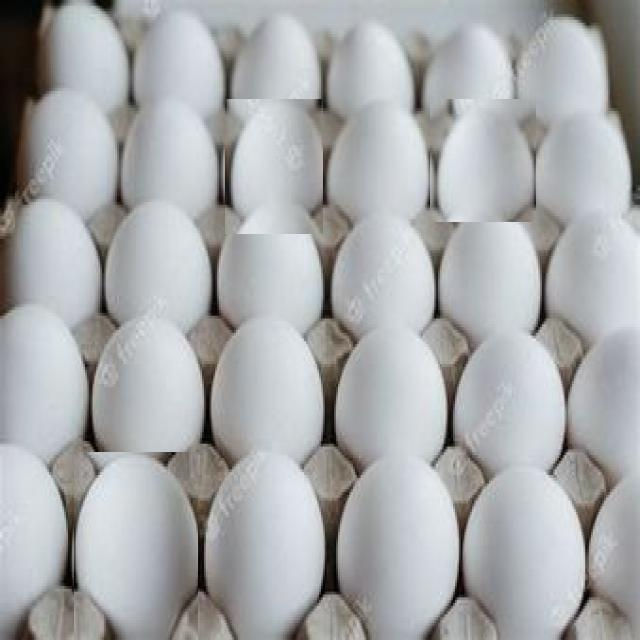Egg: (200, 444, 332, 640), (74, 452, 198, 640), (204, 320, 334, 482), (322, 332, 458, 481), (438, 331, 576, 468), (92, 316, 208, 474), (214, 198, 333, 348), (102, 202, 218, 340), (434, 206, 540, 348), (225, 99, 323, 234), (429, 99, 536, 222)
